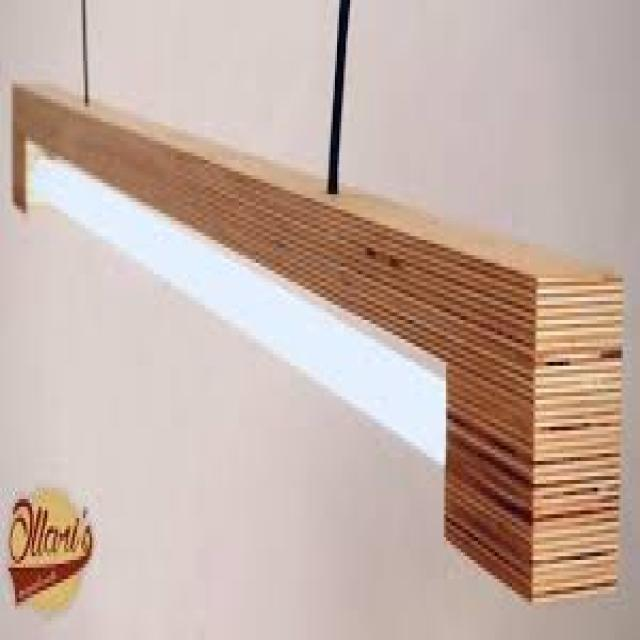tubelight_on: (27, 137, 458, 476)
